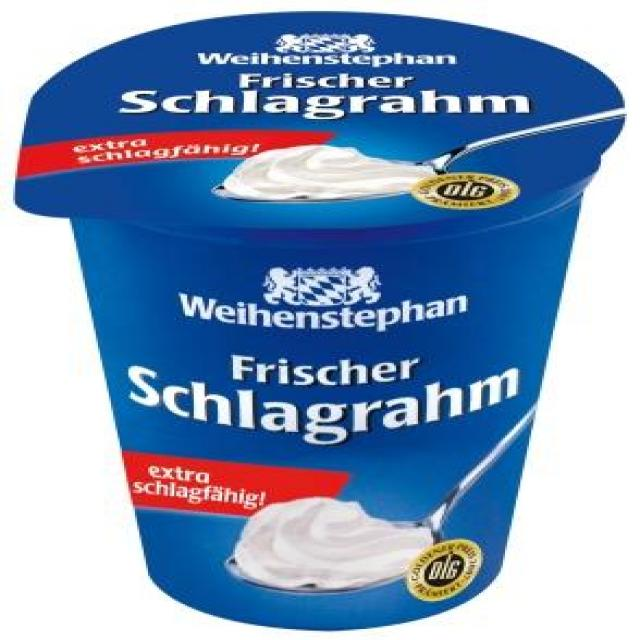Cream: (17, 13, 623, 629)
